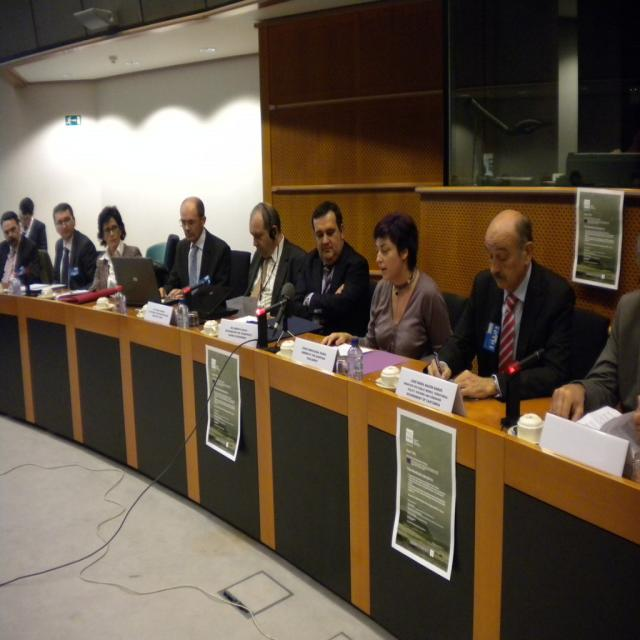chair: (439, 290, 469, 332)
desk: (0, 330, 639, 639)
laptop: (113, 257, 168, 305)
person: (425, 208, 576, 411), (325, 212, 454, 362), (549, 288, 639, 428), (281, 201, 371, 340), (227, 202, 308, 316), (161, 196, 231, 302), (93, 206, 143, 294), (51, 203, 97, 289), (0, 211, 45, 288), (18, 198, 48, 252)
